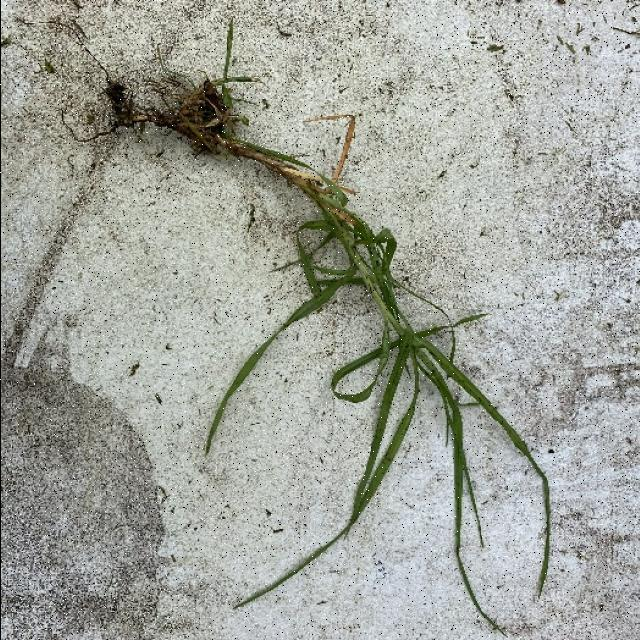organik: (101, 44, 559, 586)
